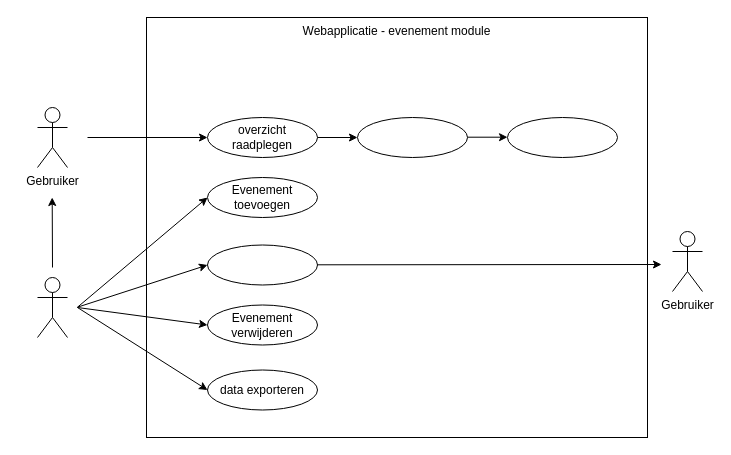
Image size: 731x455. Some labels were removed from this diagram. The shapes that lost their labels are listed below. From the top down, each one's box as (x1, y1, x2, y2) in pixels, then its label:
(356, 116, 468, 158): evenement details raadplegen
(506, 116, 618, 158): inschrijven
(206, 244, 318, 285): Evenement wijzigen
(36, 276, 68, 338): Administrator
